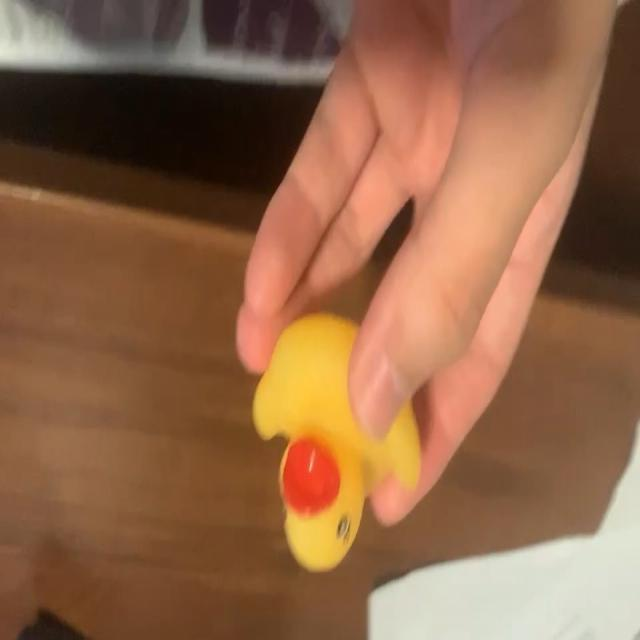rubber-duck: (252, 313, 418, 569)
